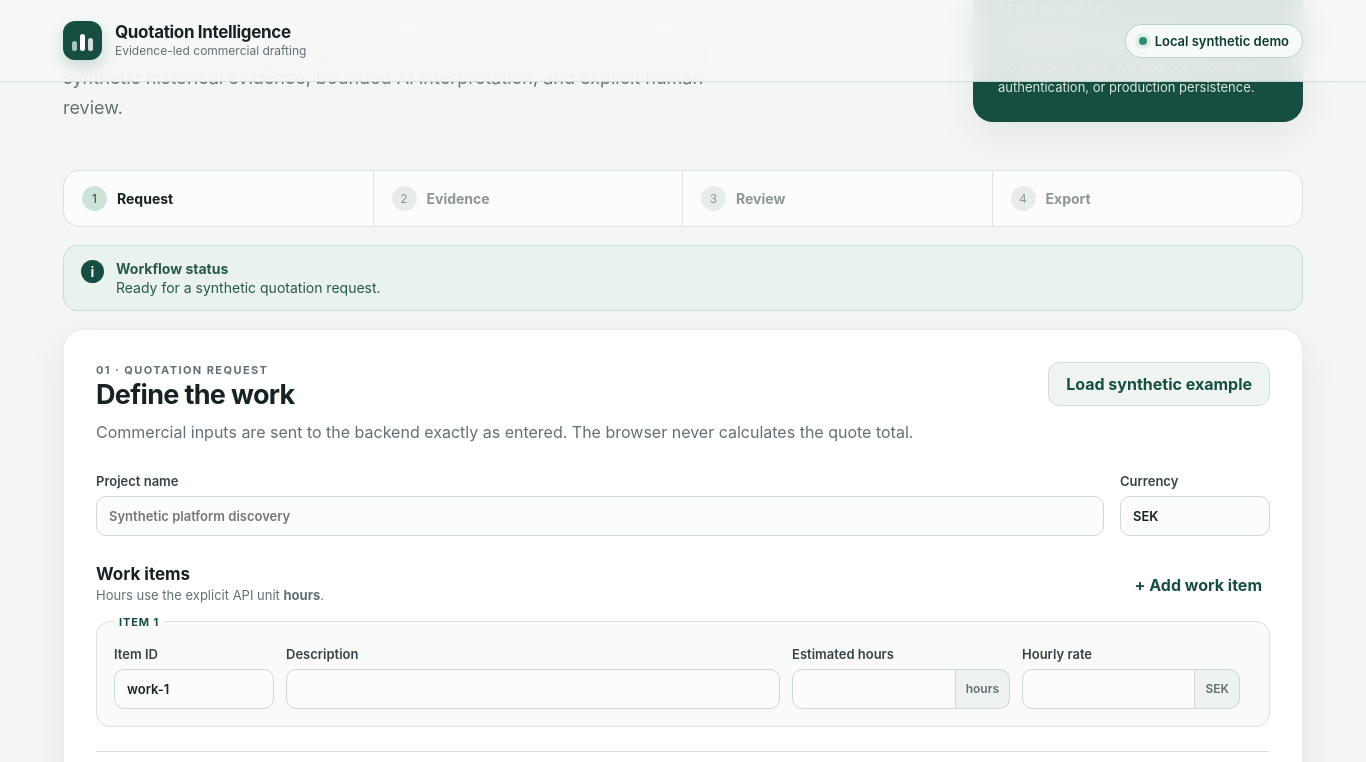
C20 quotation workflow › presents agent_invalid without a false successful draft
This screenshot has width=1366, height=762.
(page scrolled)
Click the button "Load synthetic example" at (1159, 384), box [1048,362,1270,406]
(page scrolled)
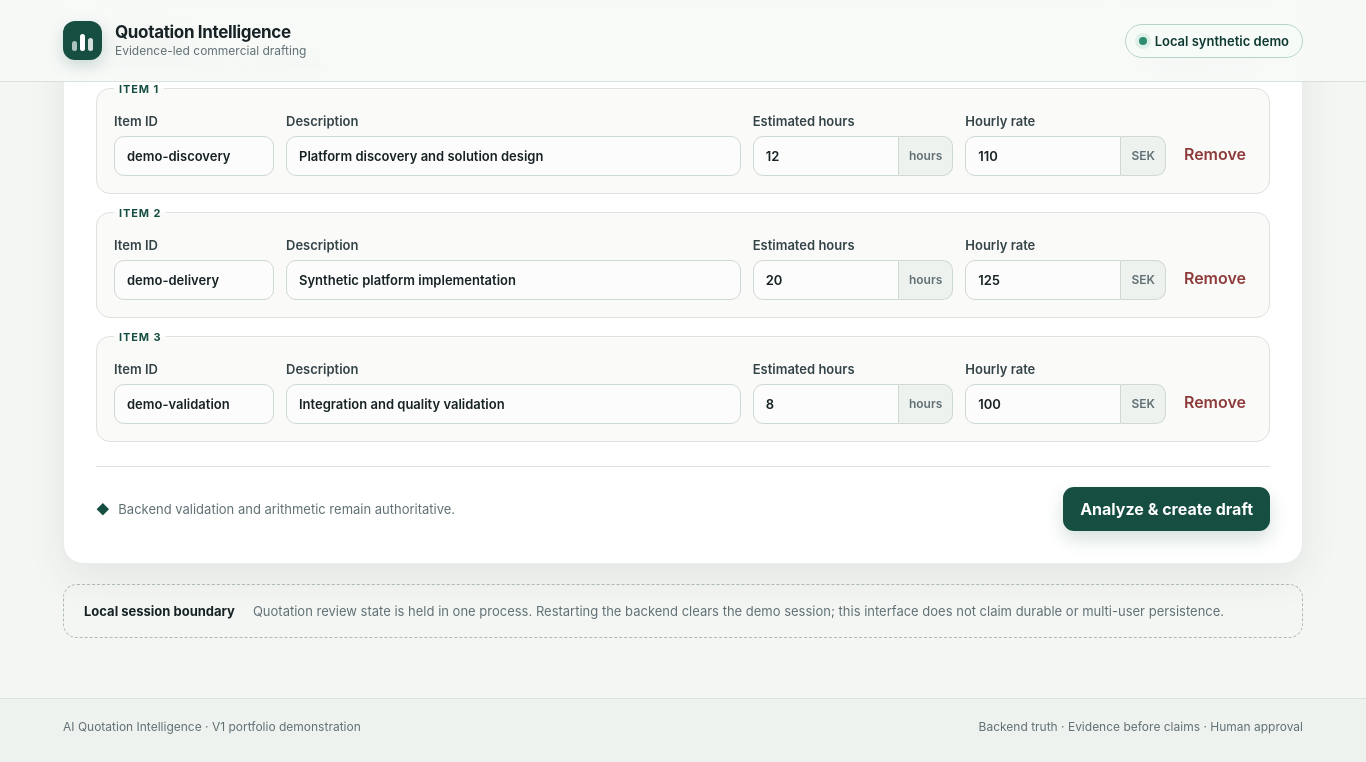
Click the button "Analyze & create draft" at (1167, 509), box [1063,487,1270,531]
(page scrolled)
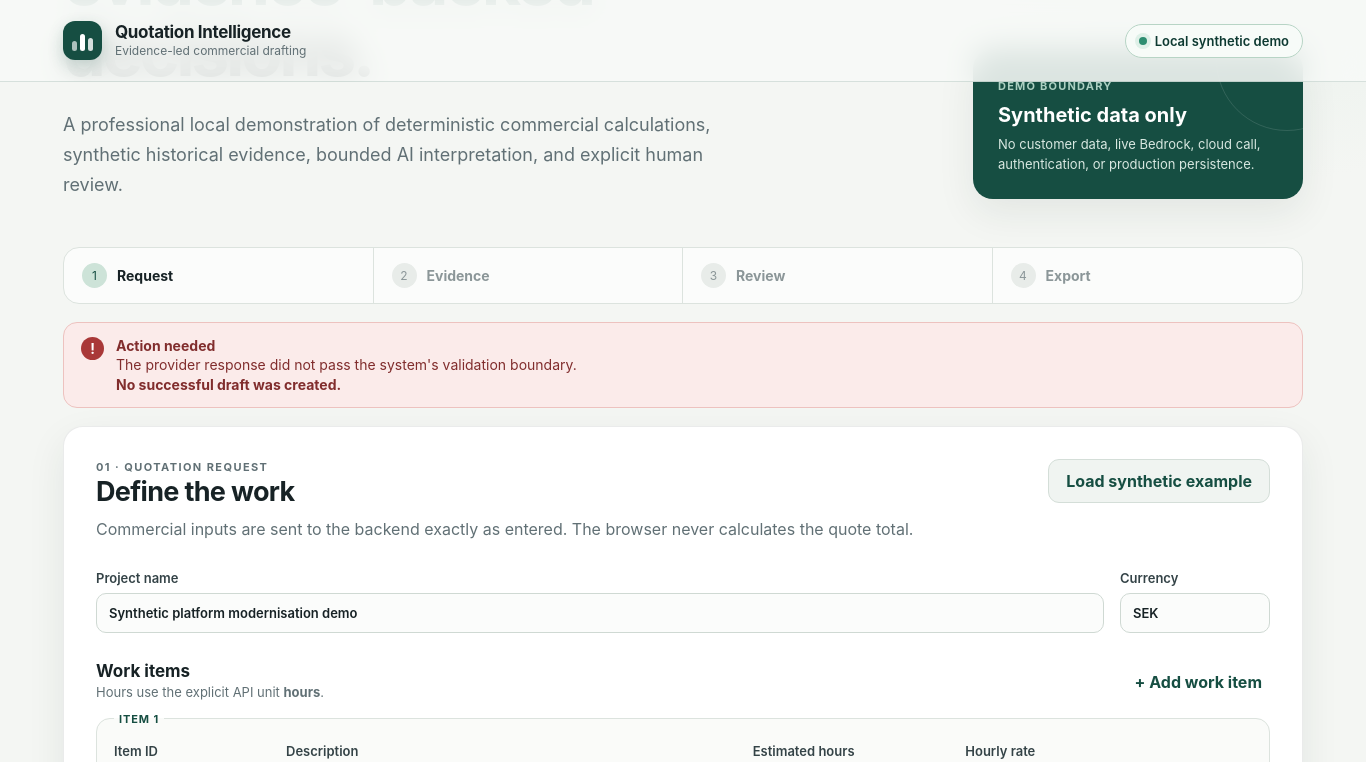
Check: the text "did not pass the system's validation boundary" is shown, box [116,356,577,373]
Check: the text "No successful draft was created." is shown, box [116,376,341,393]
